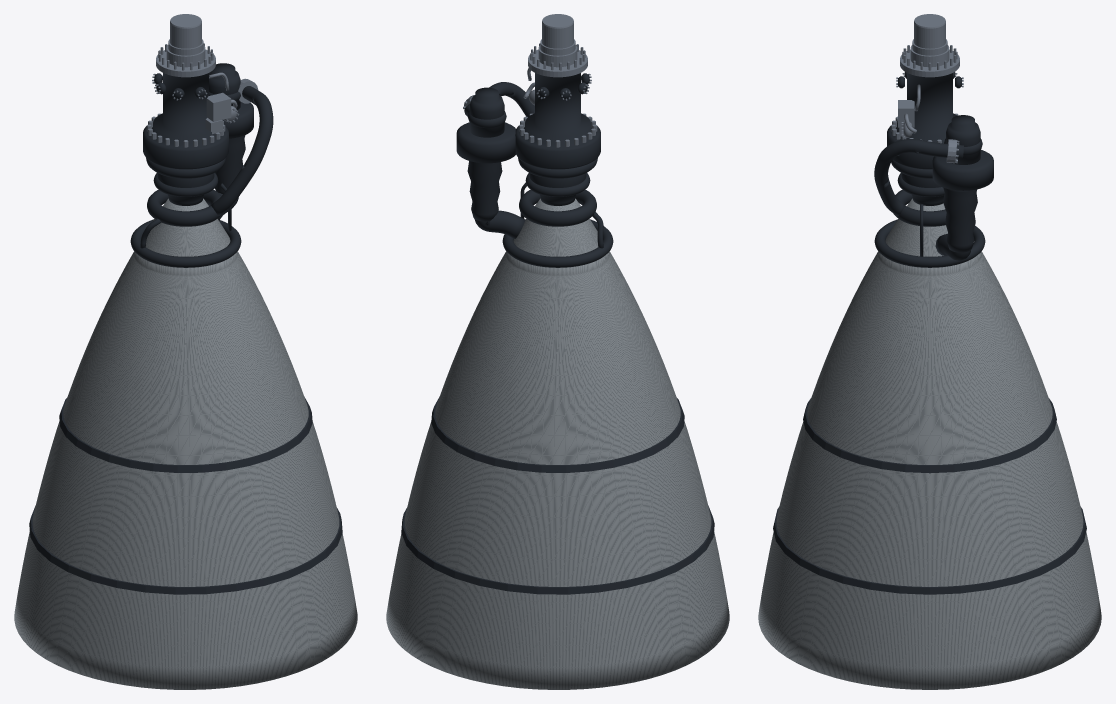
Rendered from raptor3vac.glb.
3 renders of one model, left to right at view 1: azimuth 30°, elevation 25°; view 2: azimuth 150°, elevation 25°; view 3: azimuth 270°, elevation 25°, orthographic.
Visible parts, largest first — view 1: raptor3vac_nozzle, raptor3vac_powerhead, raptor3vac_nozzle_hoop_00, raptor3vac_nozzle_hoop_01, raptor3vac_s_pipe, raptor3vac_gimbal_cap, raptor3vac_nozzle_manifold, raptor3vac_throat_manifold, raptor3vac_ribbed_duct, raptor3vac_chamber, raptor3vac_turbopump, raptor3vac_top_flange (+4 smaller); view 2: raptor3vac_nozzle, raptor3vac_powerhead, raptor3vac_nozzle_hoop_00, raptor3vac_nozzle_hoop_01, raptor3vac_turbopump_housing, raptor3vac_gimbal_cap, raptor3vac_ribbed_duct, raptor3vac_throat_manifold, raptor3vac_nozzle_manifold, raptor3vac_turbopump, raptor3vac_chamber, raptor3vac_ribbed_duct_elbow (+5 smaller); view 3: raptor3vac_nozzle, raptor3vac_powerhead, raptor3vac_nozzle_hoop_00, raptor3vac_nozzle_hoop_01, raptor3vac_s_pipe, raptor3vac_ribbed_duct, raptor3vac_turbopump_housing, raptor3vac_gimbal_cap, raptor3vac_nozzle_manifold, raptor3vac_turbopump, raptor3vac_throat_manifold, raptor3vac_top_flange (+1 smaller).
Part boxes in pixels (x1=…): raptor3vac_nozzle: x1=14, y1=198, x2=357, y2=689; raptor3vac_powerhead: x1=143, y1=73, x2=228, y2=169; raptor3vac_nozzle_hoop_00: x1=29, y1=506, x2=342, y2=594; raptor3vac_nozzle_hoop_01: x1=59, y1=397, x2=312, y2=472; raptor3vac_s_pipe: x1=210, y1=86, x2=273, y2=215; raptor3vac_gimbal_cap: x1=166, y1=14, x2=205, y2=67; raptor3vac_nozzle_manifold: x1=130, y1=219, x2=241, y2=267; raptor3vac_throat_manifold: x1=147, y1=189, x2=222, y2=226; raptor3vac_ribbed_duct: x1=215, y1=135, x2=245, y2=195; raptor3vac_chamber: x1=157, y1=173, x2=214, y2=205; raptor3vac_turbopump: x1=209, y1=63, x2=240, y2=110; raptor3vac_top_flange: x1=156, y1=49, x2=215, y2=77; raptor3vac_nozzle: x1=386, y1=198, x2=729, y2=689; raptor3vac_powerhead: x1=515, y1=73, x2=600, y2=169; raptor3vac_nozzle_hoop_00: x1=401, y1=506, x2=714, y2=594; raptor3vac_nozzle_hoop_01: x1=431, y1=397, x2=684, y2=472; raptor3vac_turbopump_housing: x1=456, y1=122, x2=515, y2=163; raptor3vac_gimbal_cap: x1=538, y1=14, x2=577, y2=67; raptor3vac_ribbed_duct: x1=467, y1=161, x2=502, y2=221; raptor3vac_throat_manifold: x1=519, y1=189, x2=596, y2=226; raptor3vac_nozzle_manifold: x1=502, y1=219, x2=613, y2=267; raptor3vac_turbopump: x1=470, y1=87, x2=504, y2=137; raptor3vac_chamber: x1=529, y1=173, x2=586, y2=205; raptor3vac_ribbed_duct_elbow: x1=474, y1=210, x2=525, y2=238; raptor3vac_nozzle: x1=758, y1=198, x2=1101, y2=689; raptor3vac_powerhead: x1=887, y1=73, x2=956, y2=169; raptor3vac_nozzle_hoop_00: x1=773, y1=507, x2=1086, y2=594; raptor3vac_nozzle_hoop_01: x1=803, y1=398, x2=1056, y2=473; raptor3vac_s_pipe: x1=874, y1=139, x2=963, y2=216; raptor3vac_ribbed_duct: x1=943, y1=187, x2=977, y2=252; raptor3vac_turbopump_housing: x1=932, y1=149, x2=993, y2=190; raptor3vac_gimbal_cap: x1=910, y1=14, x2=949, y2=67; raptor3vac_nozzle_manifold: x1=874, y1=219, x2=985, y2=267; raptor3vac_turbopump: x1=946, y1=115, x2=980, y2=164; raptor3vac_throat_manifold: x1=893, y1=189, x2=946, y2=226; raptor3vac_top_flange: x1=900, y1=49, x2=959, y2=77.
Bounding box in the file's own units: 2.47 × 4.74 × 2.47.
3 materials, 1 textured.
